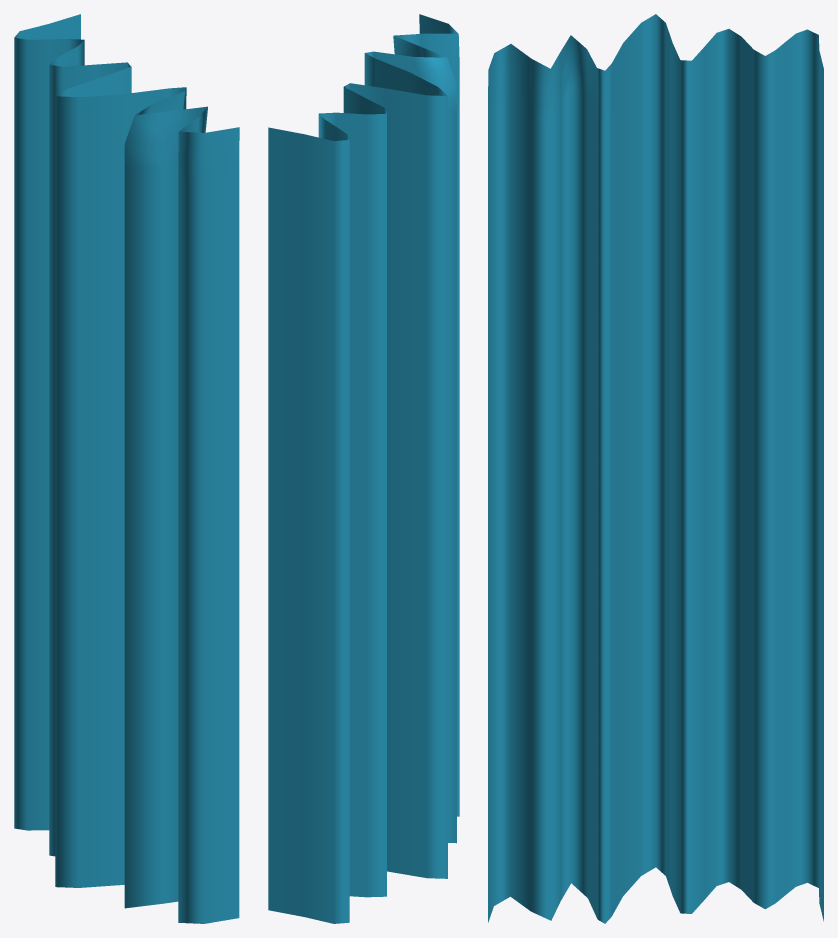
File: Cortina.fbx
3 views of the same model, side by side, from view 1: azimuth 30°, elevation 25°; view 2: azimuth 150°, elevation 25°; view 3: azimuth 270°, elevation 25° (orthographic). The views are drawn at different scales.
Parts seen in each view (by area): view 1: Cortina; view 2: Cortina; view 3: Cortina.
Part boxes in pixels (box(x1,y1,x2,y2)): Cortina: box(14, 14, 239, 923); Cortina: box(268, 14, 459, 923); Cortina: box(488, 14, 823, 923).
Size of the model in its own units: 0.8396 by 5.89 by 2.1.
